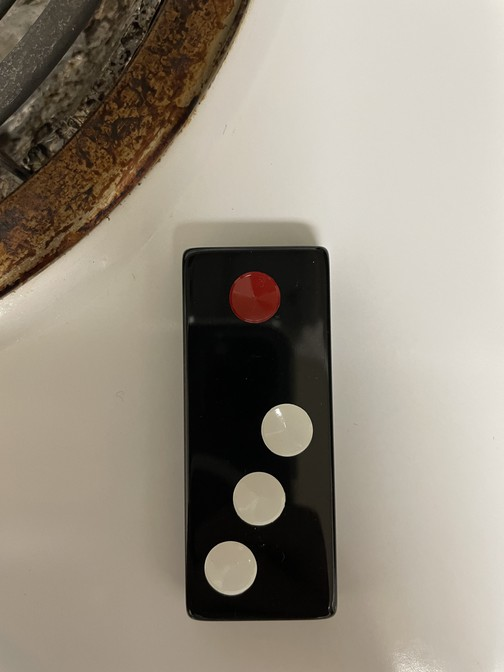goose: (183, 249, 341, 620)
